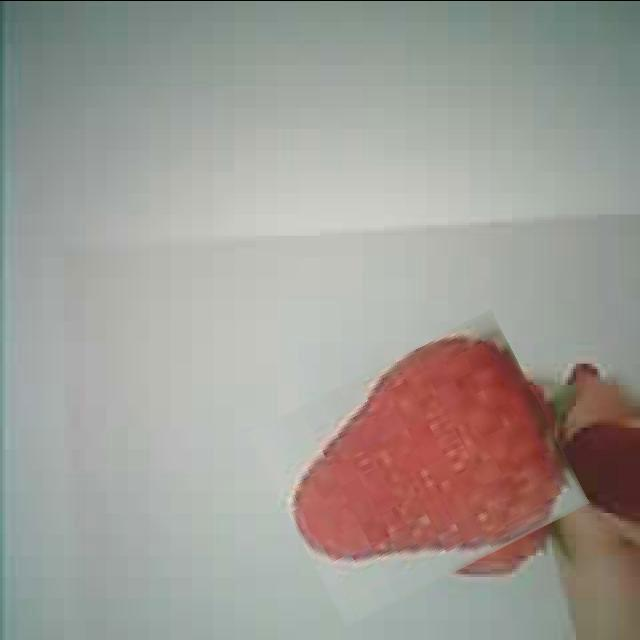strawberry: (265, 334, 573, 602)
